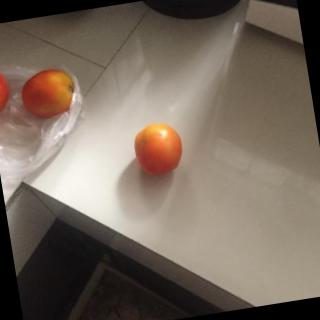Tomat: (119, 108, 199, 193), (10, 59, 87, 126), (1, 66, 13, 123)
